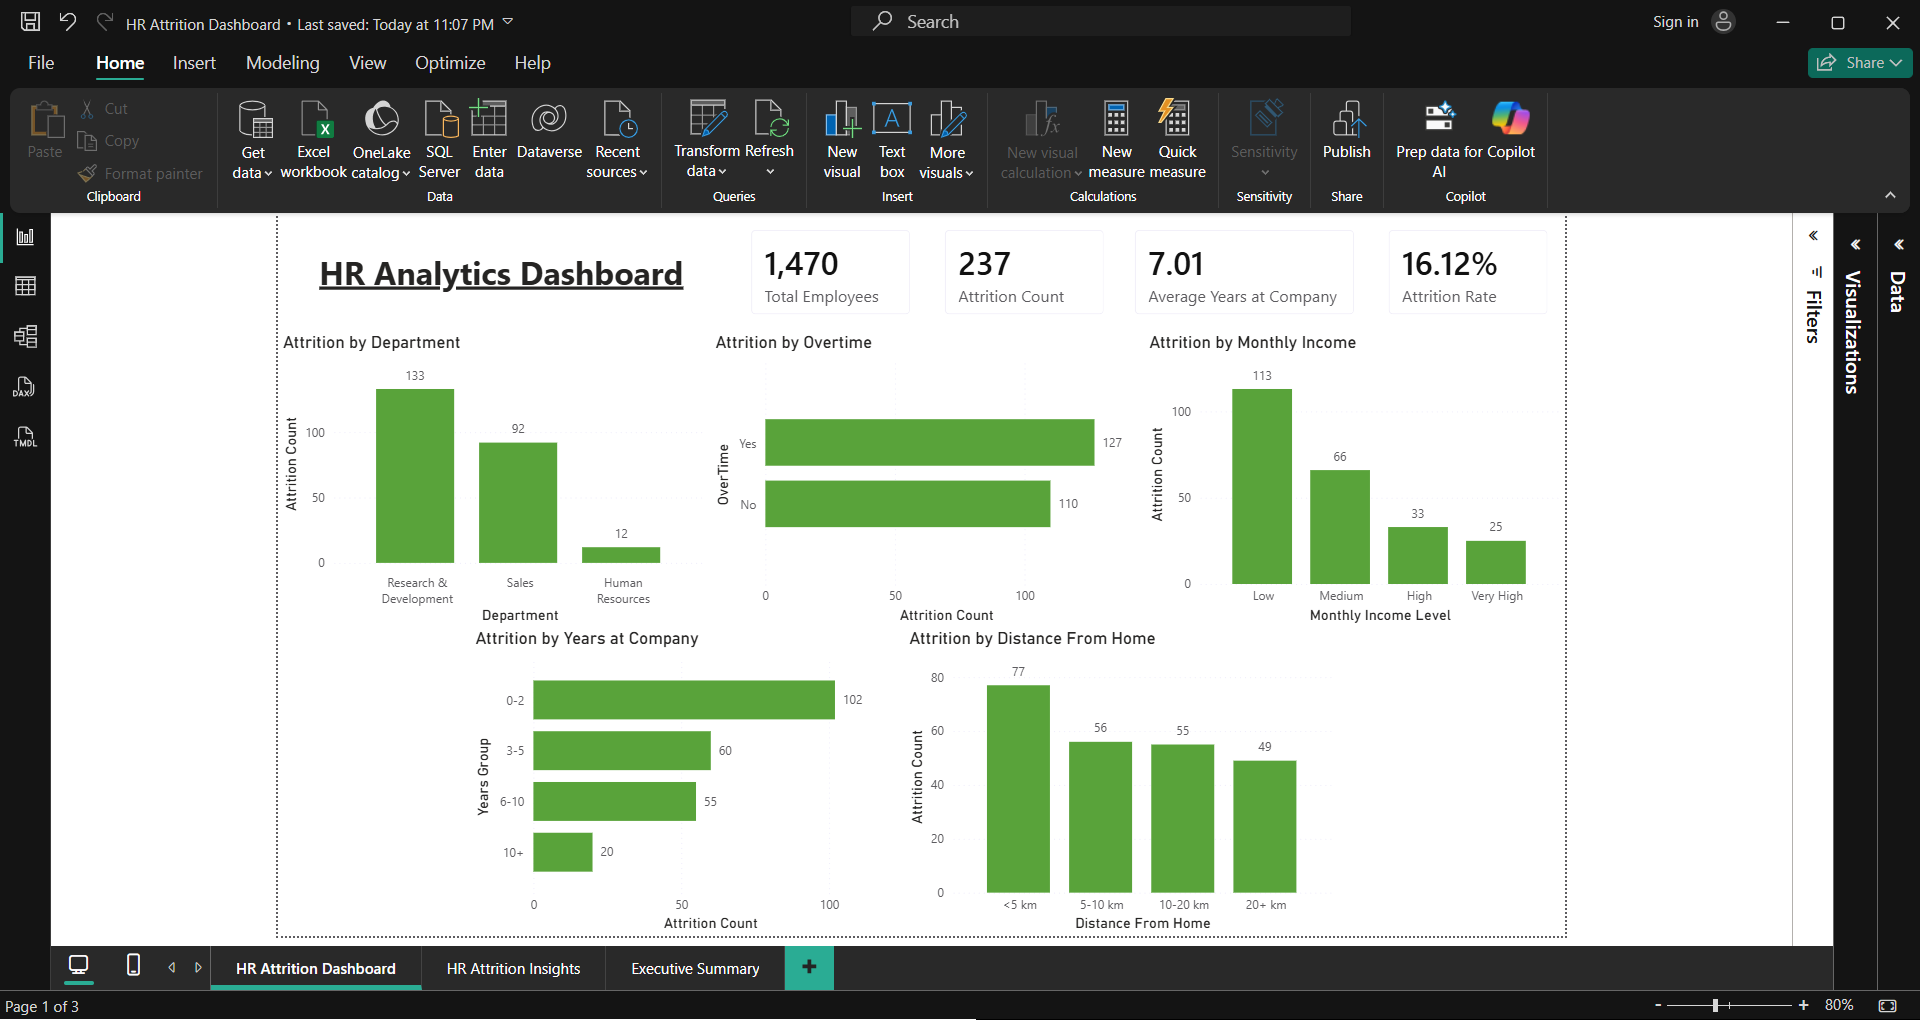

The dashboard page shown, as its layout file describes it:
{"tool":"powerbi","page":{"name":"HR Attrition Dashboard","canvas":[1280,720],"ordinal":0},"visuals":[{"type":"cardVisual","fields":{"Data":["HR Employee Attrition.Total Employees"]},"box":[454.2,0,192.1,118],"z":0},{"type":"cardVisual","fields":{"Data":["HR Employee Attrition.Attrition Count"]},"box":[646.3,0,192.1,118],"z":1000},{"type":"cardVisual","fields":{"Data":["HR Employee Attrition.Attrition Rate"]},"box":[1088.2,0,192.1,118],"z":2000},{"type":"cardVisual","fields":{"Data":["HR Employee Attrition.Average Years at Company"]},"box":[835.7,0,252.5,118],"z":3000},{"type":"clusteredColumnChart","title":"Attrition by Department","fields":{"Category":["HR Employee Attrition.Department"],"Y":["HR Employee Attrition.Attrition Count"]},"box":[0,118,430.9,295],"z":4000},{"type":"clusteredBarChart","title":"Attrition by Overtime","fields":{"Y":["HR Employee Attrition.Attrition Count"],"Category":["HR Employee Attrition.OverTime"]},"box":[430.9,118,430.9,295],"z":5000},{"type":"clusteredColumnChart","title":"Attrition by Monthly Income","fields":{"Category":["HR Employee Attrition.Monthly Income Level"],"Y":["HR Employee Attrition.Attrition Count"]},"box":[861.5,118,418.5,295],"z":7000},{"type":"clusteredColumnChart","title":"Attrition by Distance From Home","fields":{"Category":["HR Employee Attrition.Distance From Home"],"Y":["HR Employee Attrition.Attrition Count"]},"box":[623,412.6,430.9,307.4],"z":8000},{"type":"clusteredBarChart","title":"Attrition by Years at Company","fields":{"Category":["HR Employee Attrition.Years Group"],"Y":["HR Employee Attrition.Attrition Count"]},"box":[192.1,412.6,430.9,307.4],"z":9000},{"type":"textbox","box":[35.7,32.9,395.2,53.5],"z":10000}]}

Visuals, with their boxes on the page's 1280x720 design canvas (x1, y1, x2, y2). These are canvas units, not pixel positions in the 1920x1020 screenshot, which may show the page scaled, cropped or inside an application window:
cardVisual - HR Employee Attrition.Total Employees: bbox=[454, 0, 646, 118]
cardVisual - HR Employee Attrition.Attrition Count: bbox=[646, 0, 838, 118]
cardVisual - HR Employee Attrition.Attrition Rate: bbox=[1088, 0, 1280, 118]
cardVisual - HR Employee Attrition.Average Years at Company: bbox=[836, 0, 1088, 118]
"Attrition by Department" clusteredColumnChart: bbox=[0, 118, 431, 413]
"Attrition by Overtime" clusteredBarChart: bbox=[431, 118, 862, 413]
"Attrition by Monthly Income" clusteredColumnChart: bbox=[862, 118, 1280, 413]
"Attrition by Distance From Home" clusteredColumnChart: bbox=[623, 413, 1054, 720]
"Attrition by Years at Company" clusteredBarChart: bbox=[192, 413, 623, 720]
textbox: bbox=[36, 33, 431, 86]
